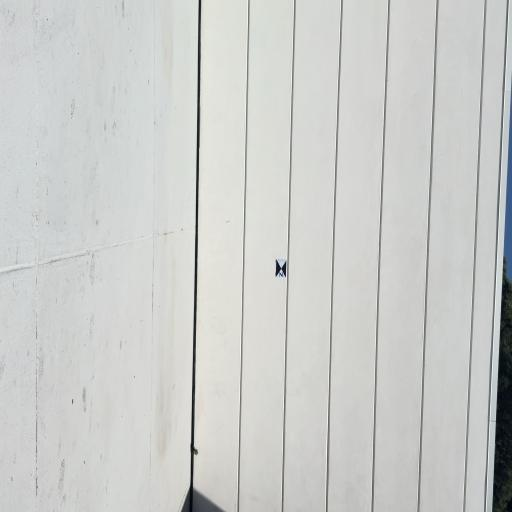target7: (276, 259, 286, 278)
